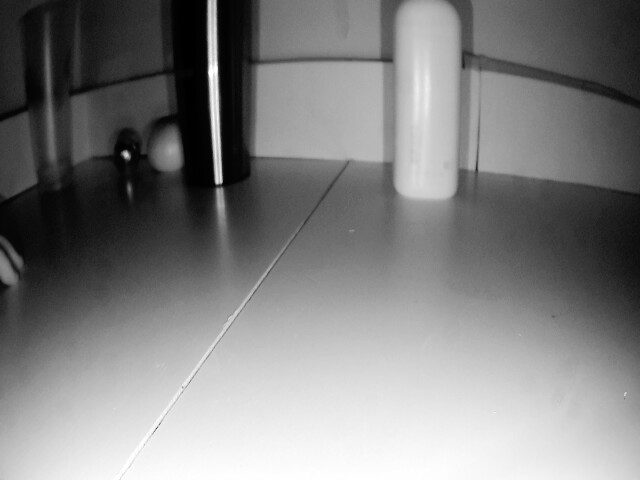silver: (107, 135, 144, 178)
